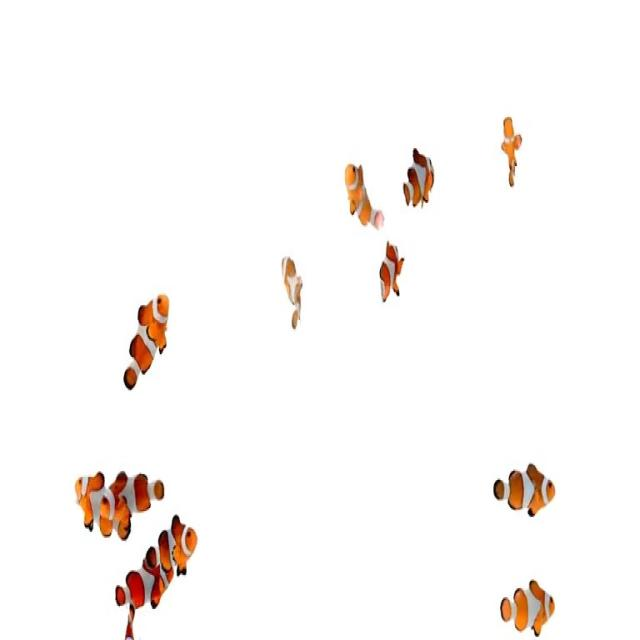fish: (116, 291, 173, 390), (495, 558, 563, 640), (493, 451, 562, 524), (94, 463, 170, 528), (75, 466, 131, 551), (342, 155, 391, 236), (148, 510, 214, 567), (119, 562, 178, 622), (396, 140, 438, 224), (372, 234, 416, 312), (274, 249, 312, 338), (498, 106, 522, 184)
